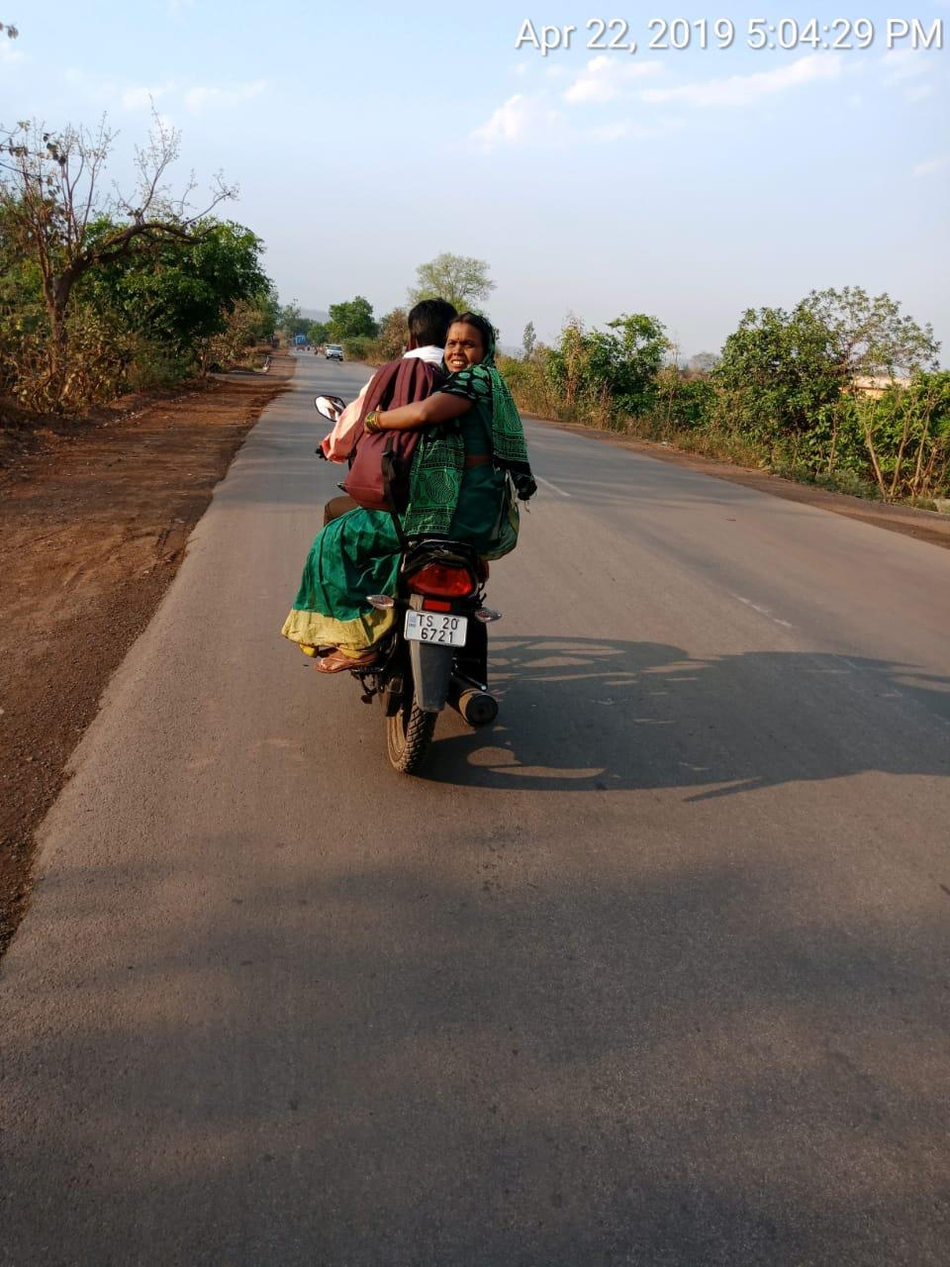plate: (389, 600, 484, 659)
